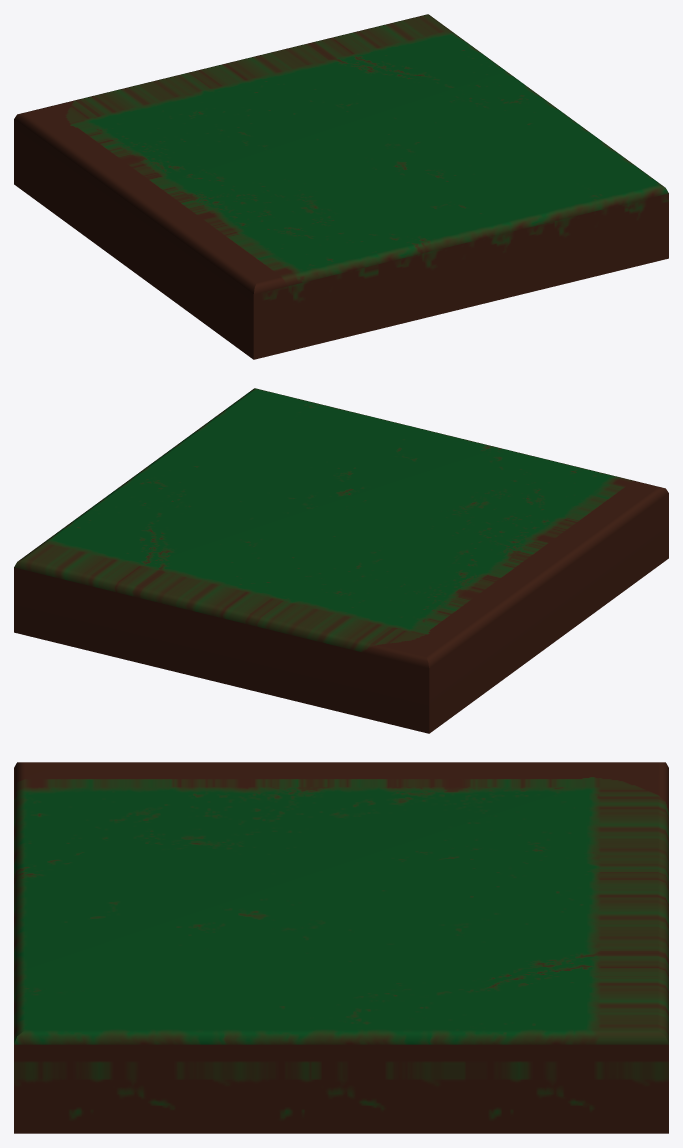
Rendered from Ground 3x3.fbx.
3 views of the same model, one above another, from view 1: azimuth 30°, elevation 25°; view 2: azimuth 150°, elevation 25°; view 3: azimuth 270°, elevation 25° (orthographic). The views are drawn at different scales.
Visible parts, largest first — view 1: Ground_3x3; view 2: Ground_3x3; view 3: Ground_3x3.
Boxes of the visible parts, bbox=[...] form: Ground_3x3: bbox=[14, 14, 668, 359]; Ground_3x3: bbox=[14, 388, 668, 733]; Ground_3x3: bbox=[14, 762, 668, 1133].
Size of the model in its own units: 300 by 50 by 300.
Materials: 1 (1 with a texture image).
